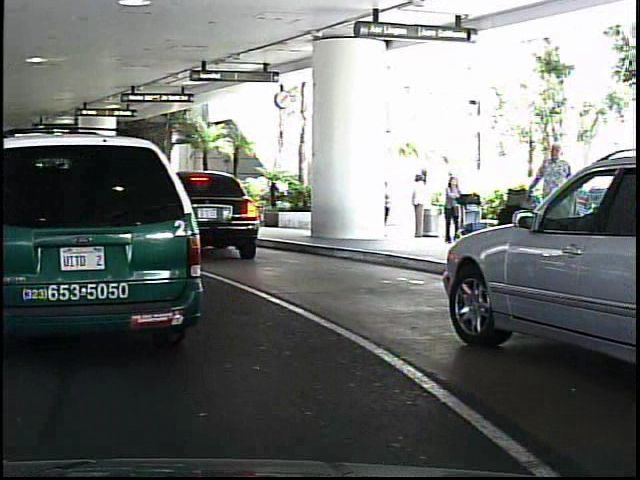person: (523, 134, 579, 279), (435, 171, 465, 246)
